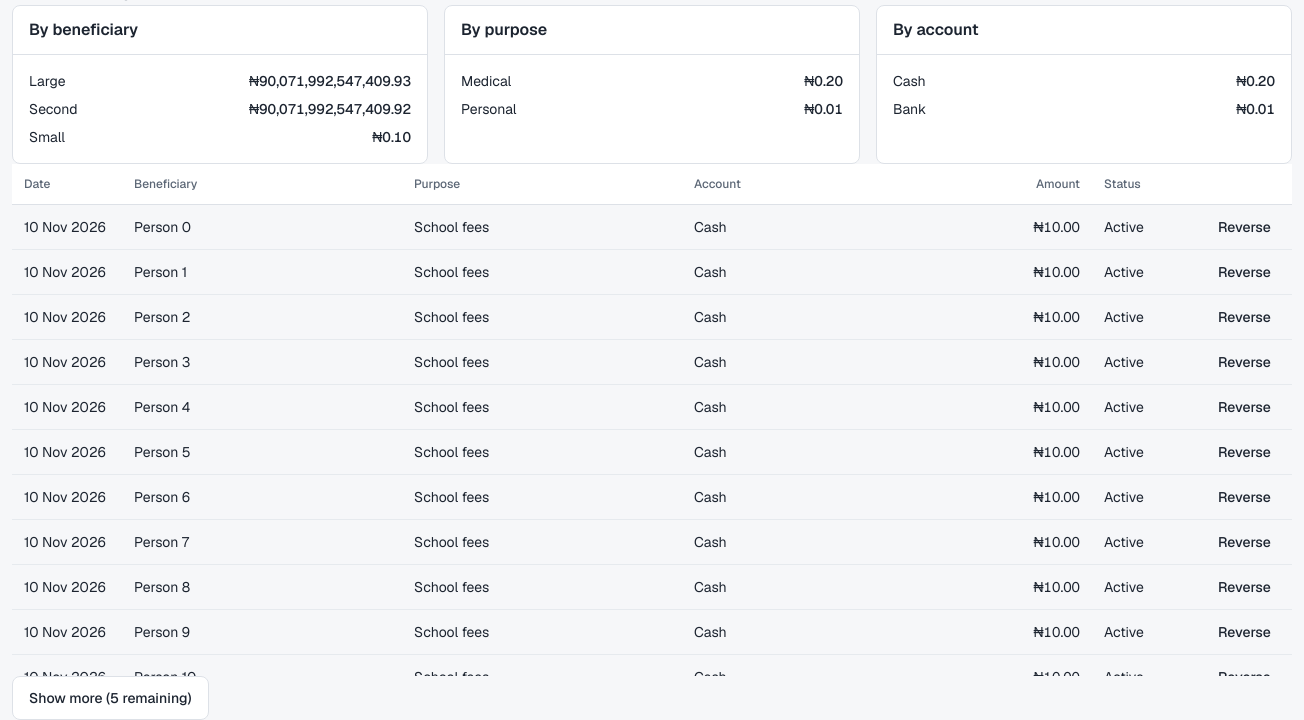
Scenario: Drawing history display › sorts all totals by exact kobo and shows more rows without changing totals
(page scrolled)
Click the button "Show more (5 remaining)". click: (110, 698)
box: [12, 676, 209, 719]
(page scrolled)
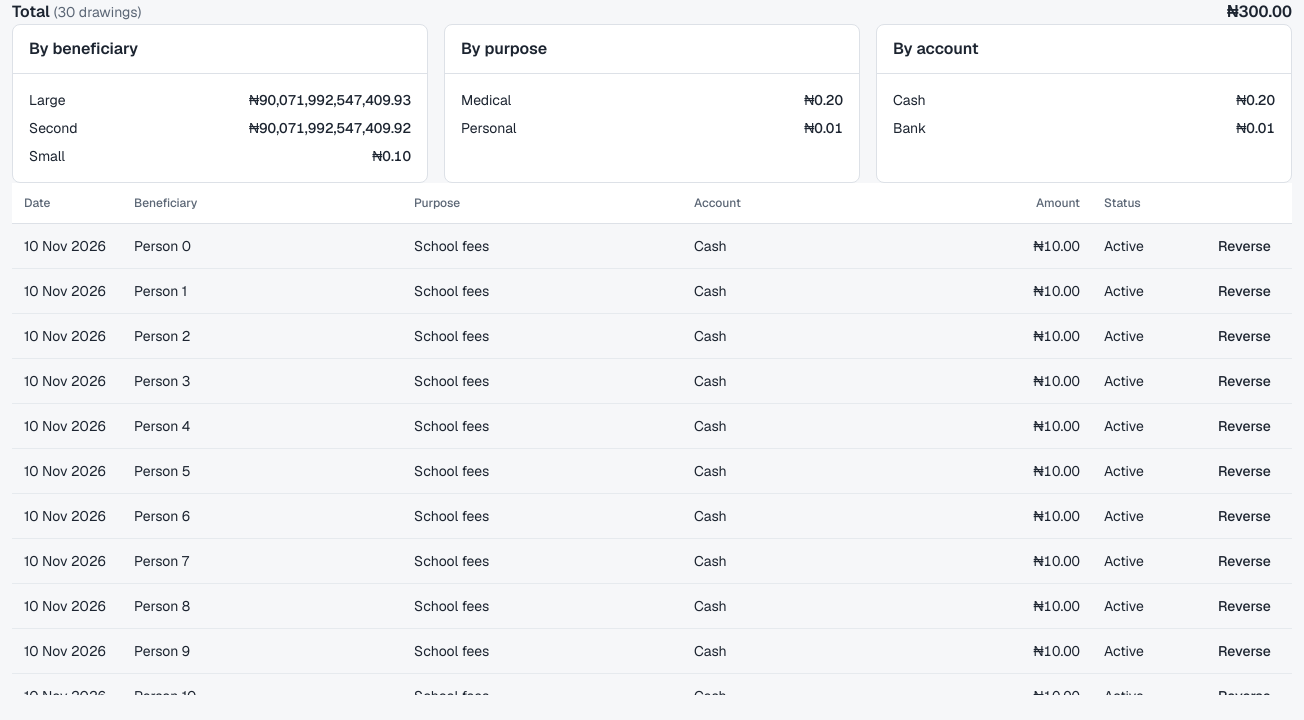
Expected: the text "(30 drawings)" is shown, [54, 3, 141, 21]
Expected: the button "Show more" is gone
